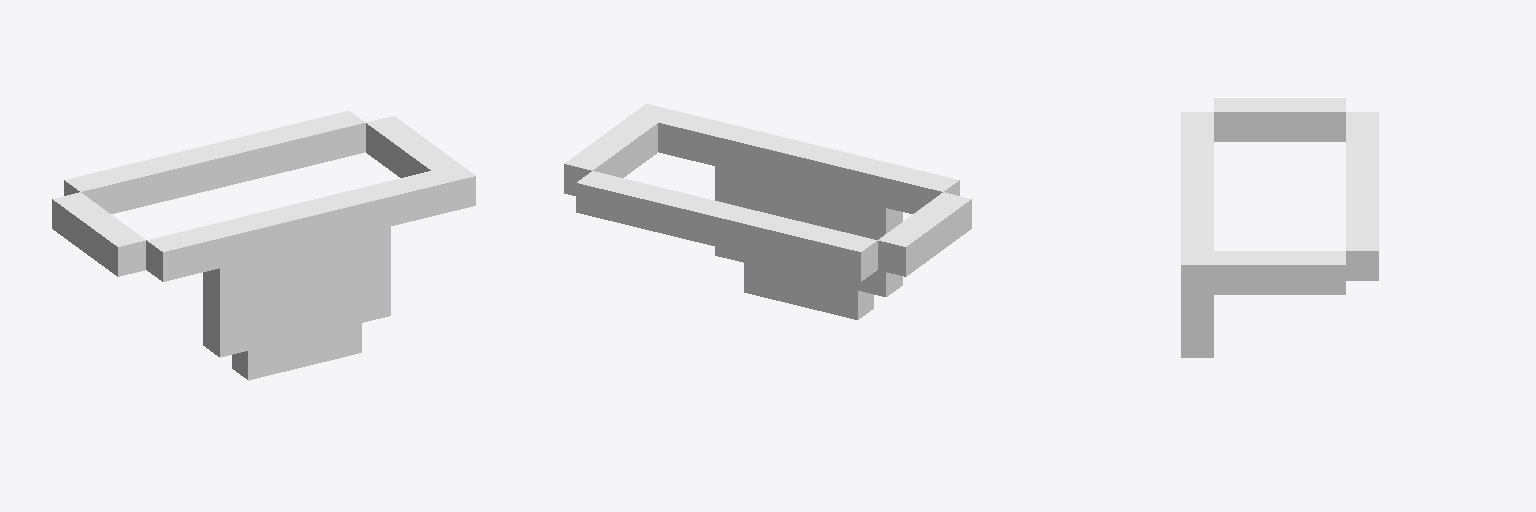
Rendered from gladiator-9.obj.
3 views of the same model, side by side, from view 1: azimuth 30°, elevation 25°; view 2: azimuth 150°, elevation 25°; view 3: azimuth 270°, elevation 25° (orthographic).
Parts seen in each view (by area): view 1: object 1; view 2: object 1; view 3: object 1.
Boxes of the visible parts, <box> form: object 1: <box>52,111,475,380</box>; object 1: <box>564,104,971,319</box>; object 1: <box>1181,98,1378,357</box>.
Size of the model in its own units: 1.2 by 0.5 by 0.6.